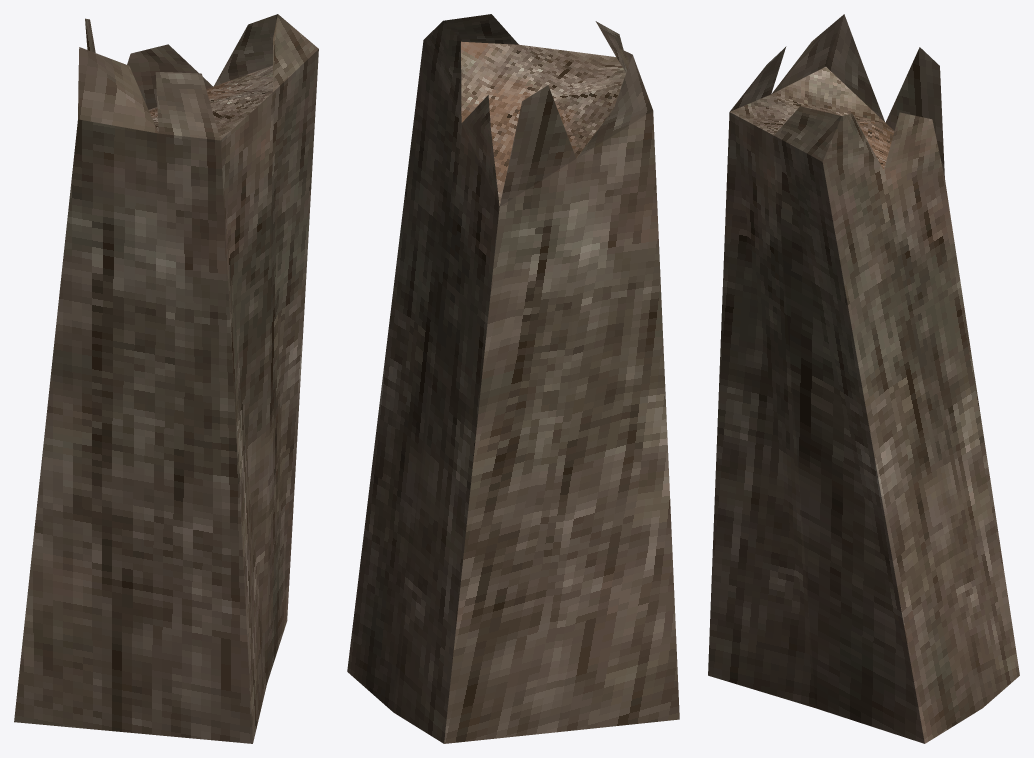
The model's file is wooden_fence_pole_broken_small.glb.
3 views of the same model, side by side, from view 1: azimuth 30°, elevation 25°; view 2: azimuth 150°, elevation 25°; view 3: azimuth 270°, elevation 25° (orthographic). The views are drawn at different scales.
Parts seen in each view (by area): view 1: wooden_fence_pole_broken_small; view 2: wooden_fence_pole_broken_small; view 3: wooden_fence_pole_broken_small.
Boxes of the visible parts, <box> form: wooden_fence_pole_broken_small: <box>14,14,318,743</box>; wooden_fence_pole_broken_small: <box>347,14,679,743</box>; wooden_fence_pole_broken_small: <box>708,14,1019,743</box>.
Bounding box in the file's own units: 0.2742 × 0.5668 × 0.2599.
Materials: 1 (1 with a texture image).
